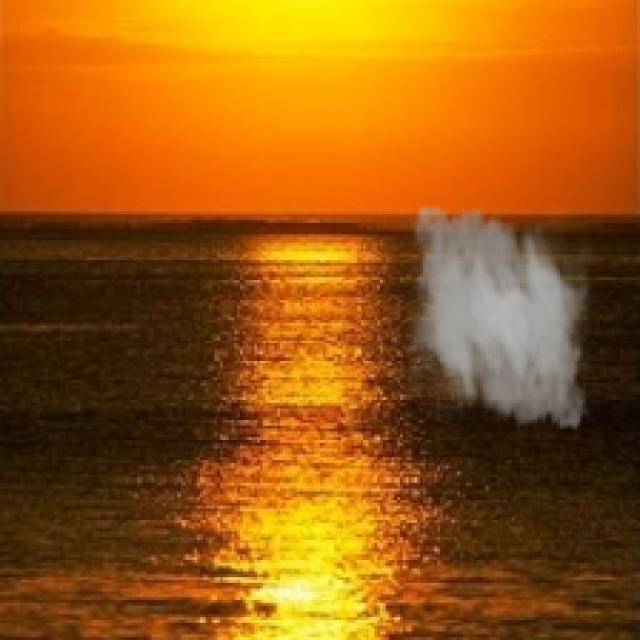smoke: (394, 194, 600, 440)
